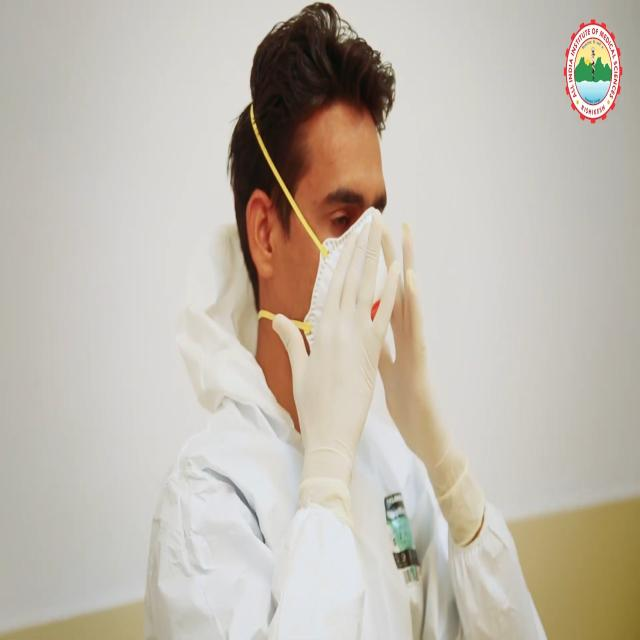Gloves: (375, 202, 490, 544), (273, 205, 395, 519)
